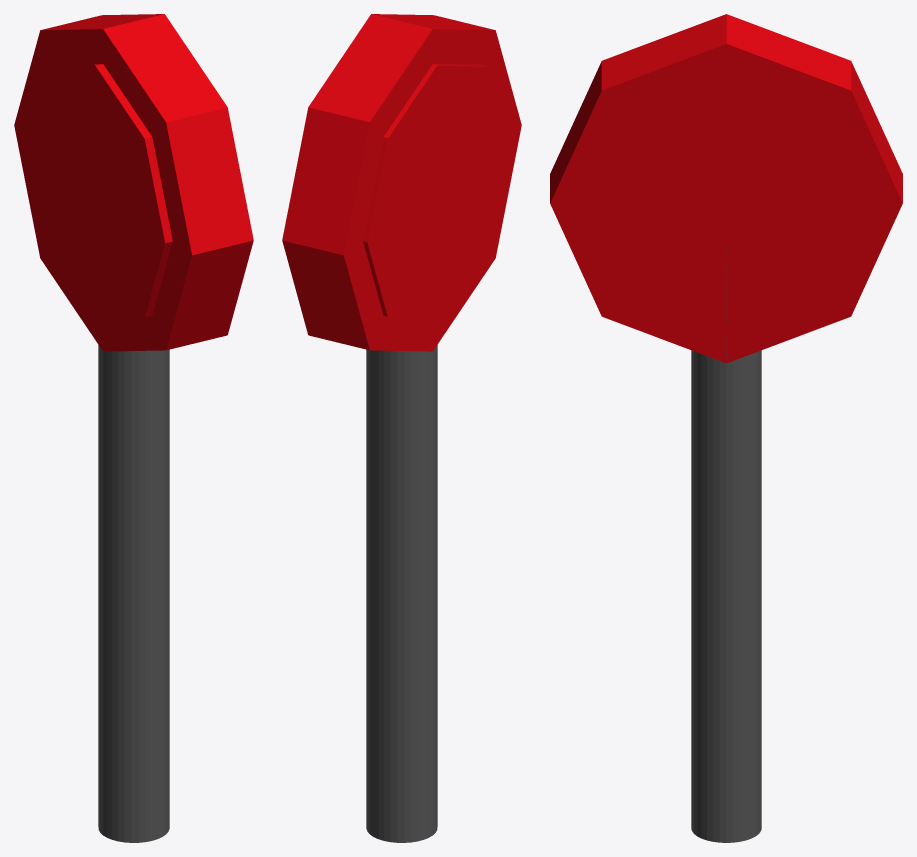
The model's file is StopSign.fbx.
3 renders of one model, left to right at view 1: azimuth 30°, elevation 25°; view 2: azimuth 150°, elevation 25°; view 3: azimuth 270°, elevation 25°, orthographic.
Parts seen in each view (by area): view 1: Cylinder.001; view 2: Cylinder.001; view 3: Cylinder.001.
Boxes of the visible parts, x1=… form: Cylinder.001: x1=14, y1=14, x2=253, y2=842; Cylinder.001: x1=282, y1=14, x2=521, y2=842; Cylinder.001: x1=550, y1=14, x2=902, y2=842.
Size of the model in its own units: 11.25 by 125 by 50.
